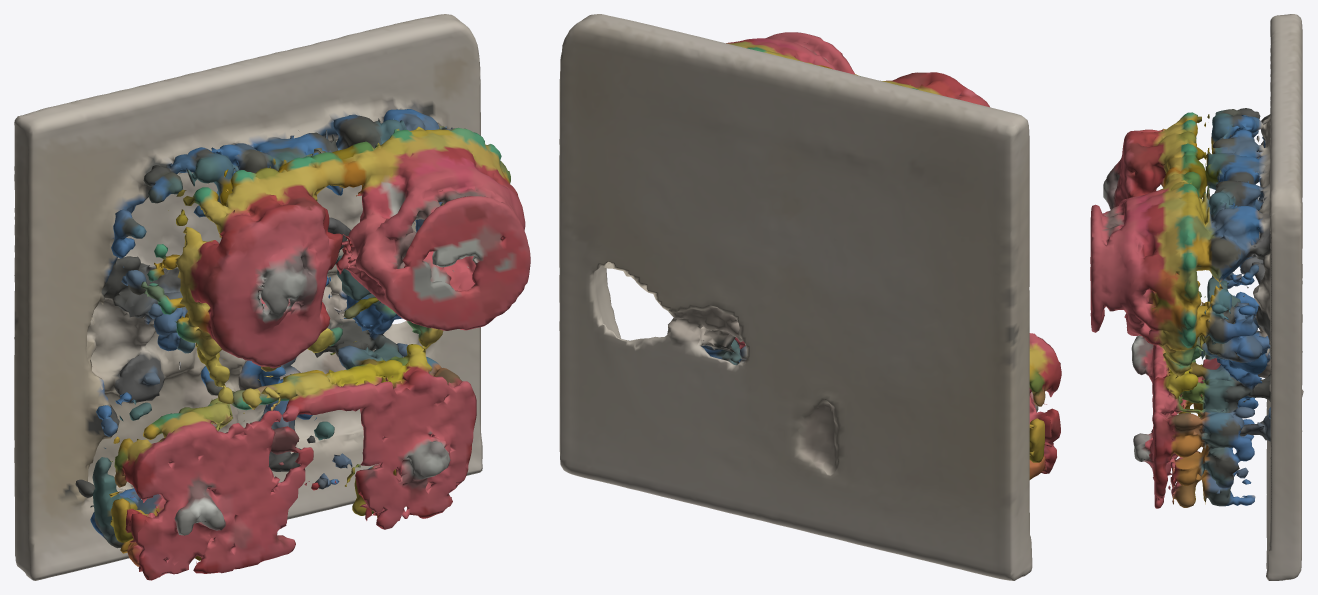
The model's file is sorting_board.glb.
3 views of the same model, side by side, from view 1: azimuth 30°, elevation 25°; view 2: azimuth 150°, elevation 25°; view 3: azimuth 270°, elevation 25° (orthographic). The views are drawn at different scales.
Bounding box in the file's own units: 0.9998 × 0.9649 × 0.4835.
